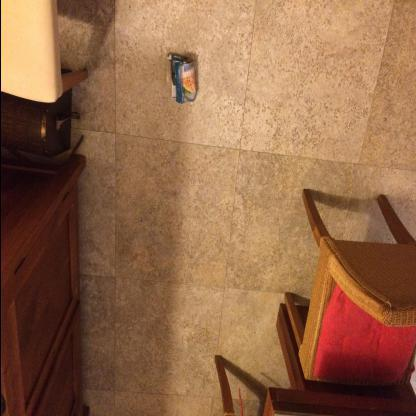karton: (167, 54, 197, 105)
